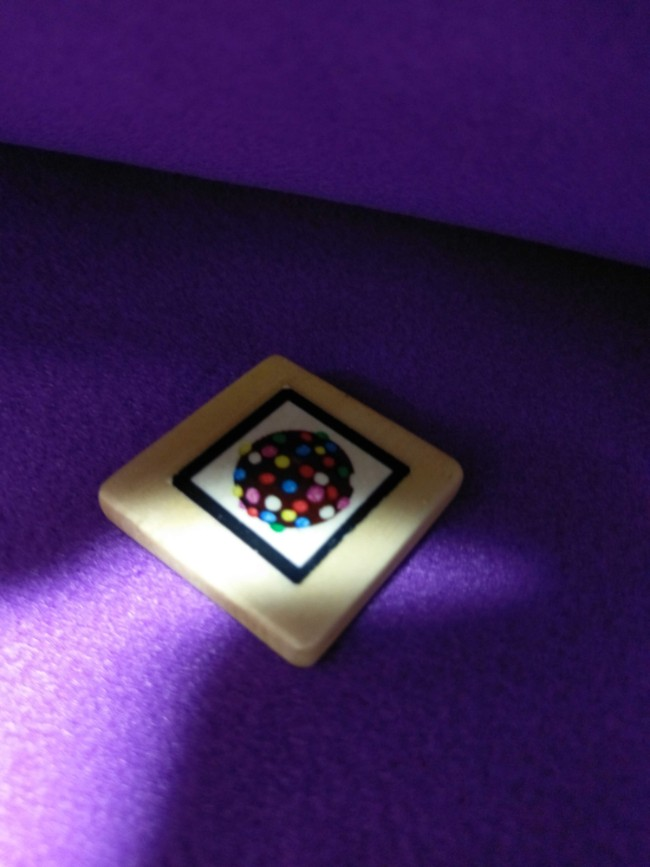cookie: (184, 395, 397, 573)
